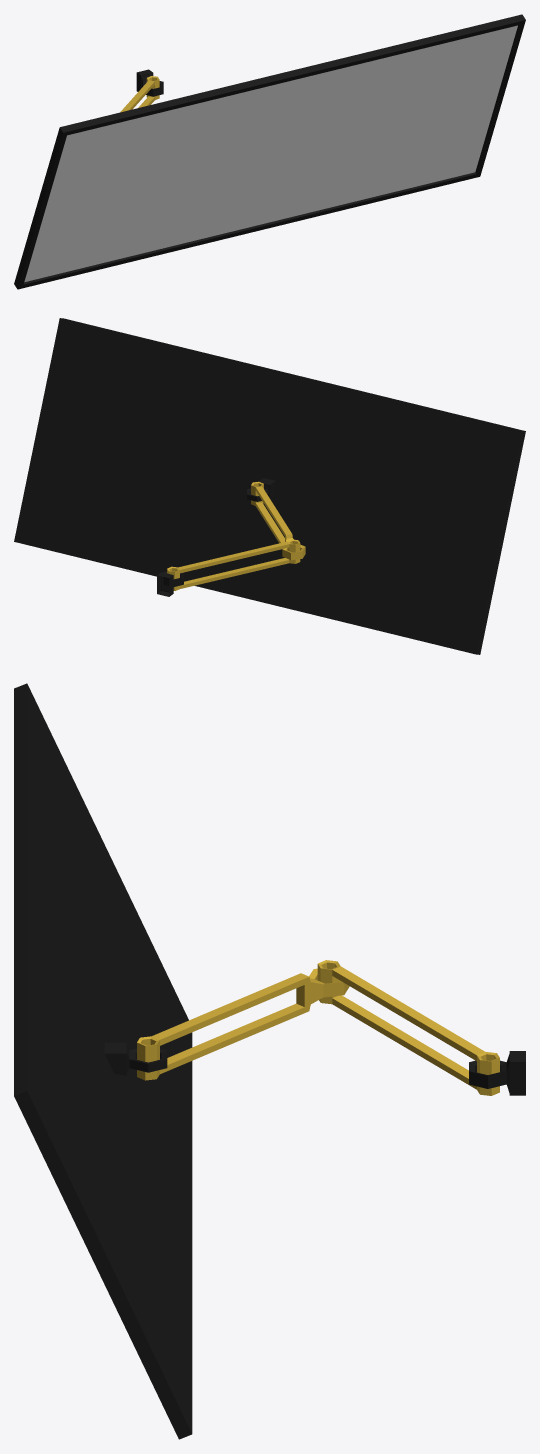
Rendered from monitor_flat_broken.glb.
3 views of the same model, one above another, from view 1: azimuth 30°, elevation 25°; view 2: azimuth 150°, elevation 25°; view 3: azimuth 270°, elevation 25° (orthographic). The views are drawn at different scales.
Visible parts, largest first — view 1: Cube.005; view 2: Cube.005; view 3: Cube.005.
Part boxes in pixels (box(x1,y1,x2,y2)): Cube.005: box(14, 14, 525, 289); Cube.005: box(14, 318, 525, 654); Cube.005: box(14, 683, 525, 1439).
Bounding box in the file's own units: 4 × 1.6 × 2.13.
